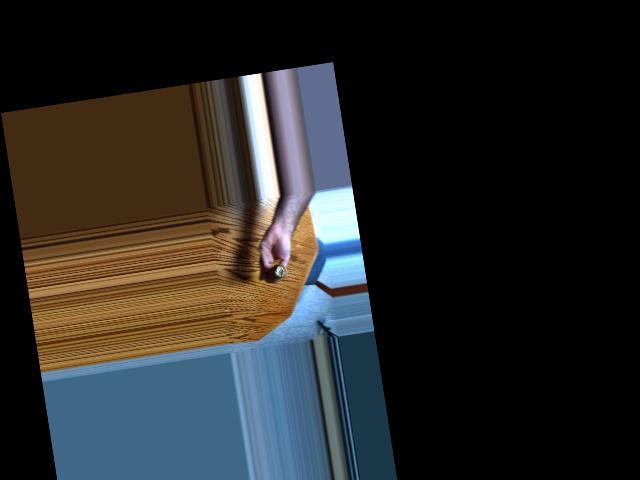sweet_potato: (261, 257, 292, 287)
